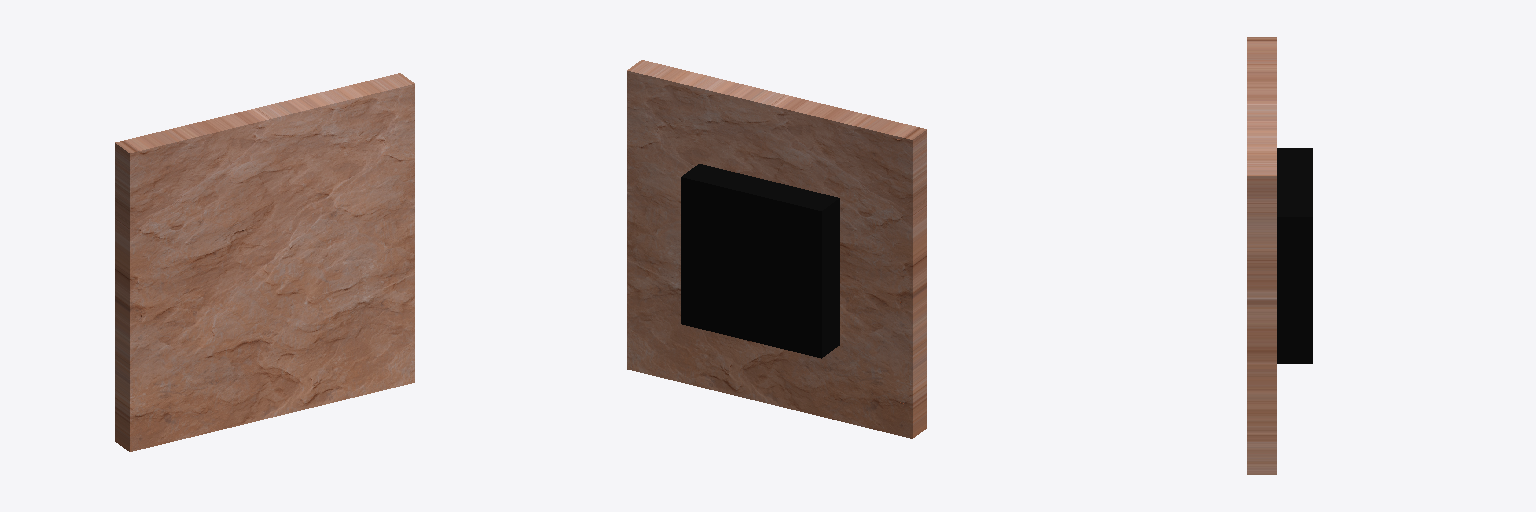
3 views of the same model, side by side, from view 1: azimuth 30°, elevation 25°; view 2: azimuth 150°, elevation 25°; view 3: azimuth 270°, elevation 25° (orthographic).
Visible parts, largest first — view 1: Object.2; view 2: Object.2, Object.1; view 3: Object.2, Object.1.
Part boxes in pixels (x1,y1,x2,y2): Object.2: (115, 73, 414, 451); Object.2: (627, 60, 926, 438); Object.1: (681, 164, 839, 358); Object.2: (1247, 37, 1276, 474); Object.1: (1277, 148, 1312, 363).
Size of the model in its own units: 0.9999 by 0.9999 by 0.2.
2 materials, 2 textured.